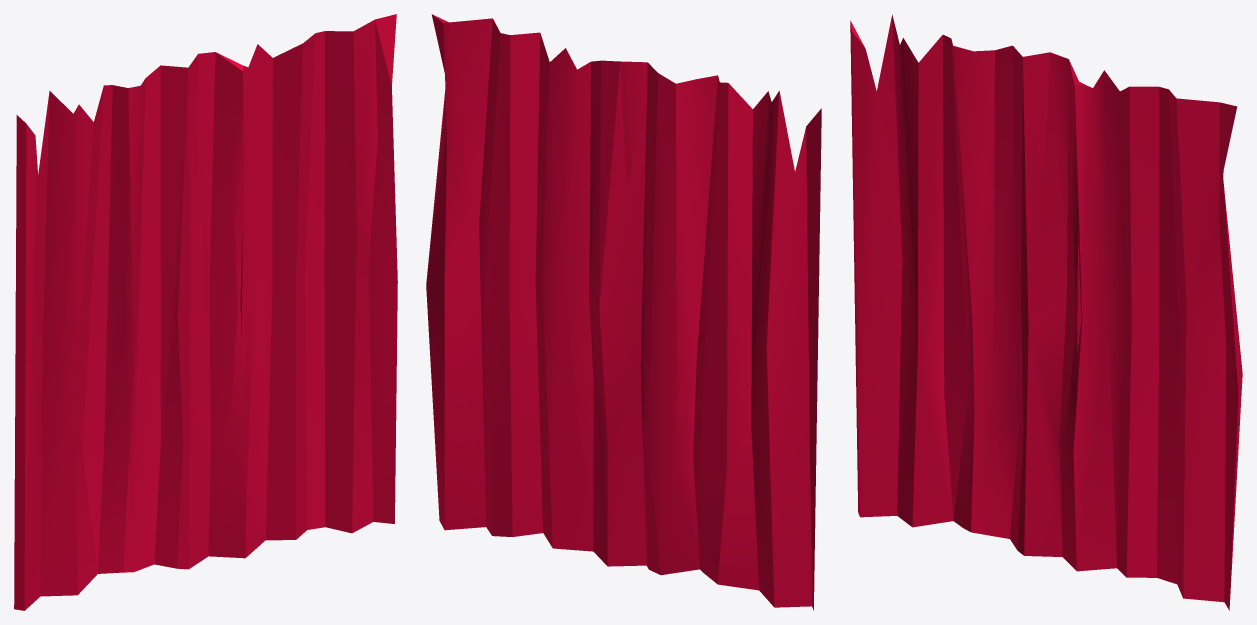
File: panel5-lod1.fbx
3 renders of one model, left to right at view 1: azimuth 30°, elevation 25°; view 2: azimuth 150°, elevation 25°; view 3: azimuth 330°, elevation 25°, orthographic.
Visible parts, largest first — view 1: panel5-lod1; view 2: panel5-lod1; view 3: panel5-lod1.
Boxes of the visible parts, box(x1,y1,x2,y2) form: panel5-lod1: box(14, 14, 397, 610); panel5-lod1: box(426, 14, 821, 610); panel5-lod1: box(850, 14, 1242, 610).
Bounding box in the file's own units: 0.5107 × 0.6485 × 0.0498.
